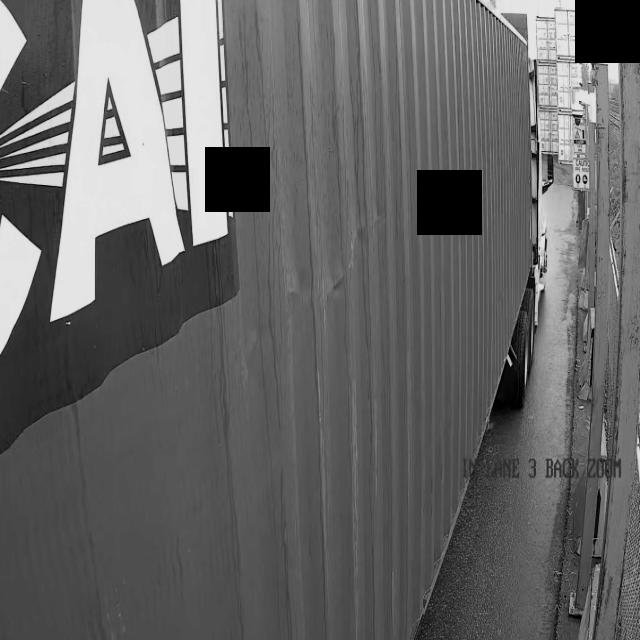container_company_logo: (43, 0, 393, 322)
truck_with_container: (0, 0, 545, 640)
